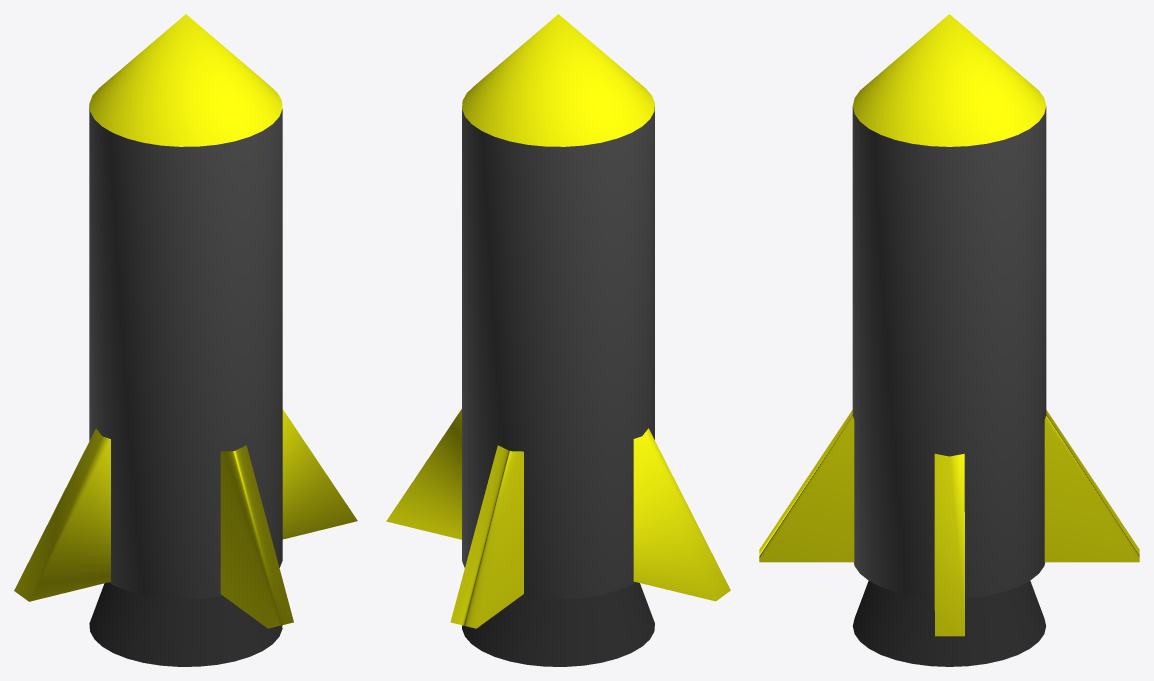
Rendered from razoLiscio.fbx.
3 renders of one model, left to right at view 1: azimuth 30°, elevation 25°; view 2: azimuth 150°, elevation 25°; view 3: azimuth 270°, elevation 25°, orthographic.
Parts seen in each view (by area): view 1: Corpo, Ali, Punta, Booster; view 2: Corpo, Ali, Punta, Booster; view 3: Corpo, Ali, Punta, Booster.
Boxes of the visible parts, x1,y1,x2,y2 form: Corpo: (89,104,282,598); Ali: (14,409,357,628); Punta: (89,14,282,146); Booster: (89,582,282,666); Corpo: (462,106,654,598); Ali: (386,409,730,628); Punta: (462,14,654,146); Booster: (462,582,654,666); Corpo: (852,106,1046,598); Ali: (759,410,1139,636); Punta: (853,14,1045,146); Booster: (853,581,1045,666).
Size of the model in its own units: 393 by 698 by 393.
